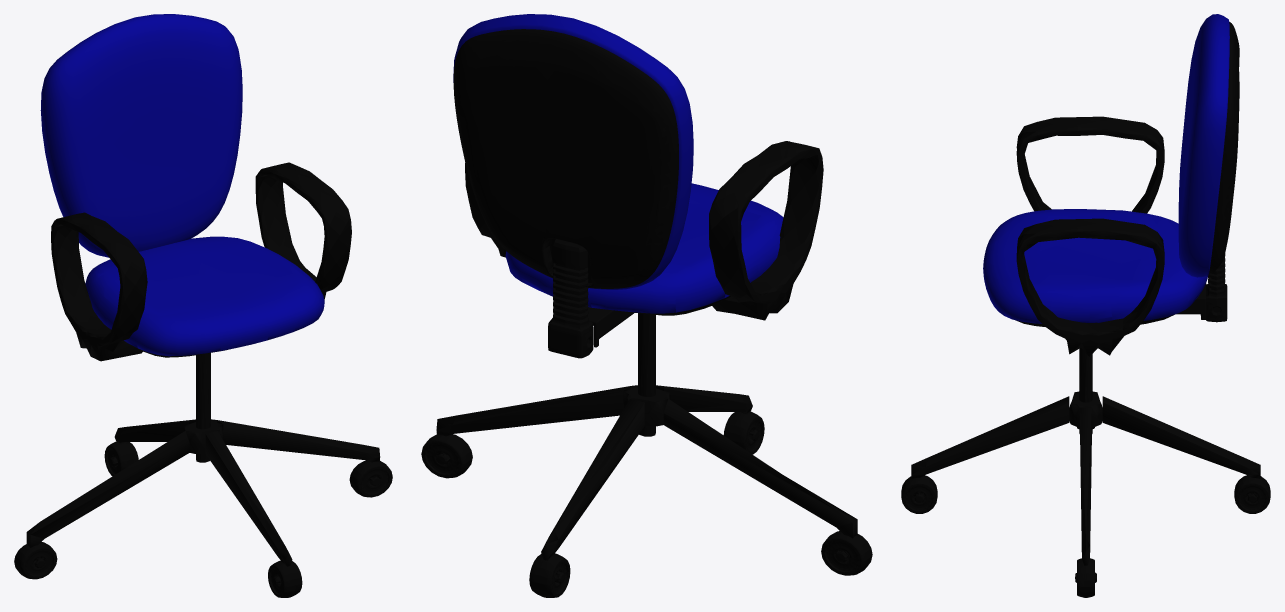
File: Chair.fbx
3 renders of one model, left to right at view 1: azimuth 30°, elevation 25°; view 2: azimuth 150°, elevation 25°; view 3: azimuth 270°, elevation 25°, orthographic. The views are drawn at different scales.
Visible parts, largest first — view 1: chair:Box002, chair:Box001, chair:Object003, chair:Line001; view 2: chair:Object002, chair:Object003, chair:Line001, chair:Box001, chair:Box002, chair:Object007, chair:Box003; view 3: chair:Box001, chair:Object003, chair:Line001, chair:Box002, chair:Object002, chair:Object007.
Boxes of the visible parts, x1,y1,x2,y2 form: chair:Box002: (40,14,242,257); chair:Box001: (85,236,324,356); chair:Object003: (14,353,392,597); chair:Line001: (51,162,351,361); chair:Object002: (453,29,678,288); chair:Object003: (421,313,872,597); chair:Line001: (465,141,823,320); chair:Box001: (505,183,783,313); chair:Box002: (453,14,693,289); chair:Object007: (548,239,593,358); chair:Box003: (588,307,634,347); chair:Box001: (983,209,1207,323); chair:Object003: (901,348,1270,597); chair:Line001: (1016,116,1164,356); chair:Box002: (1178,14,1229,277); chair:Object002: (1209,22,1239,273); chair:Object007: (1206,253,1227,322).
Bounding box in the file's own units: 230 × 279 × 194.
